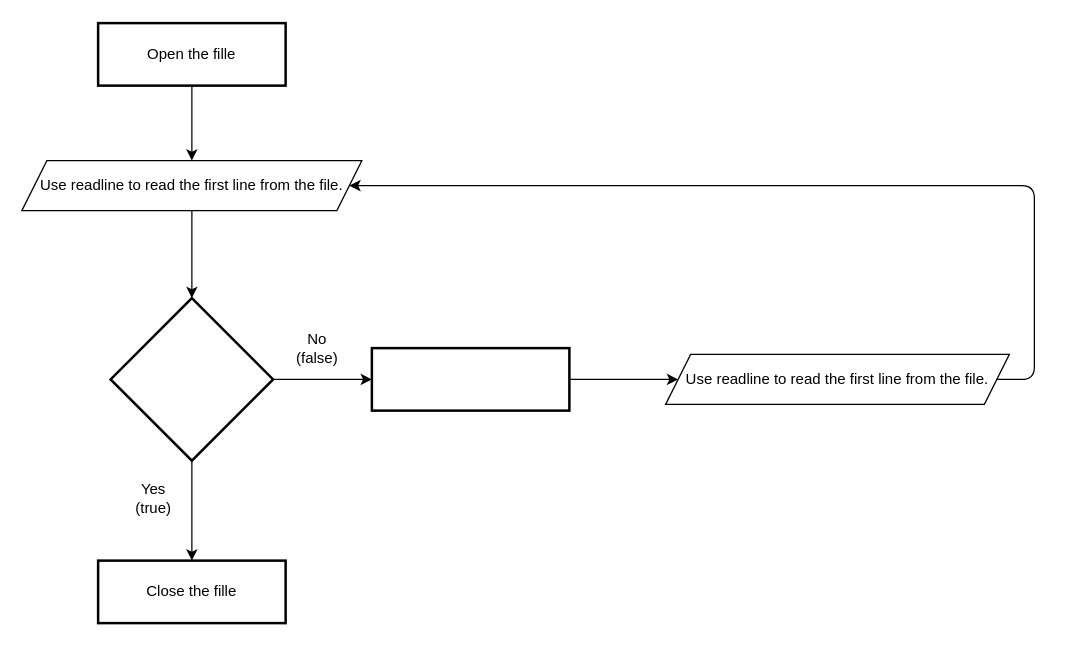
Some shapes in this 1066 by 645 pixel diagram are drawn without their labels. Here are the shapes that lost their labels. From the top down, the centre of each, then its label:
At (x=191, y=378): "Did read line return empty string?".
At (x=470, y=378): "Process the item that was just read from the file".
